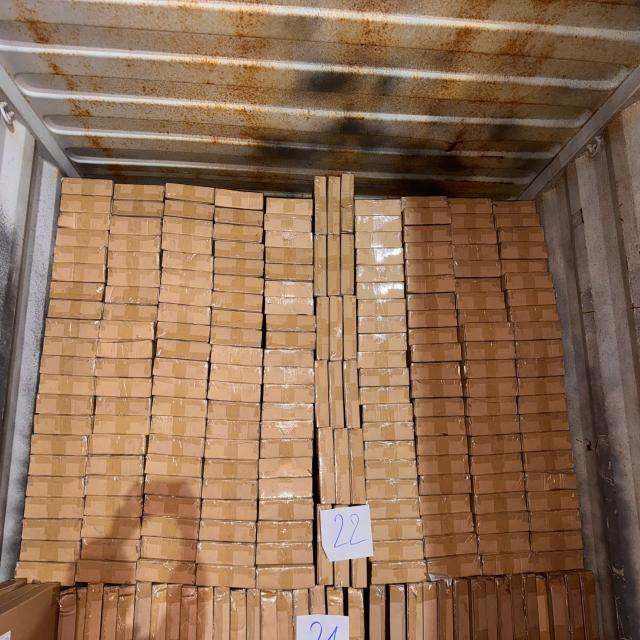Carton: (578, 571, 606, 640), (14, 560, 76, 586), (350, 504, 369, 588), (427, 552, 482, 581), (256, 564, 316, 590), (255, 541, 315, 567), (76, 559, 138, 584), (333, 503, 351, 589), (17, 540, 80, 564), (140, 537, 198, 563), (197, 540, 255, 566), (348, 427, 367, 506), (566, 571, 588, 639), (551, 574, 574, 639), (316, 503, 334, 586), (142, 515, 199, 541), (317, 428, 336, 506), (197, 564, 258, 588), (139, 560, 197, 585), (82, 516, 142, 540), (81, 536, 141, 560), (22, 496, 84, 519), (20, 519, 82, 542), (144, 475, 203, 499), (477, 528, 531, 554), (25, 476, 86, 499), (88, 434, 146, 458), (144, 495, 202, 519), (30, 435, 90, 458), (83, 495, 143, 518), (372, 560, 427, 585), (199, 520, 256, 544), (200, 498, 257, 522), (257, 520, 314, 544), (146, 455, 205, 478), (258, 500, 314, 524), (260, 477, 316, 501), (28, 455, 86, 478), (35, 396, 95, 418), (84, 476, 144, 498), (509, 574, 529, 640), (204, 458, 261, 481), (38, 354, 95, 377), (334, 429, 351, 506), (32, 415, 94, 436), (473, 472, 525, 497), (424, 512, 476, 537), (426, 533, 478, 558), (532, 548, 584, 573), (152, 377, 208, 400), (153, 357, 209, 380), (474, 513, 530, 536), (87, 455, 145, 477), (147, 436, 205, 458), (36, 374, 94, 396), (44, 300, 102, 322), (418, 474, 471, 498), (481, 552, 534, 576), (529, 529, 584, 552), (201, 480, 258, 502), (470, 434, 522, 458), (529, 488, 581, 512), (163, 198, 215, 222), (210, 345, 264, 368), (154, 340, 210, 362), (48, 280, 104, 302), (205, 440, 261, 462), (151, 398, 207, 420), (150, 416, 206, 438), (156, 323, 212, 345), (474, 492, 530, 514), (54, 210, 110, 232), (372, 518, 423, 542), (525, 449, 576, 473), (364, 458, 417, 481), (94, 377, 152, 398), (259, 456, 314, 478), (460, 320, 515, 342), (40, 338, 97, 359), (373, 540, 425, 563), (520, 429, 572, 452), (531, 510, 583, 533), (208, 419, 262, 441), (50, 264, 106, 285), (44, 318, 100, 339), (100, 321, 156, 342), (213, 292, 264, 315), (344, 360, 361, 429), (496, 575, 514, 640), (418, 455, 471, 477), (465, 377, 518, 399), (209, 382, 262, 404), (159, 285, 212, 307), (419, 494, 472, 516), (368, 500, 421, 522), (164, 232, 217, 254), (60, 195, 113, 217), (93, 398, 151, 418), (96, 358, 154, 378), (98, 340, 156, 360), (93, 416, 151, 436), (209, 365, 264, 386), (53, 229, 108, 250), (418, 436, 470, 458), (212, 328, 264, 350), (471, 454, 523, 476), (112, 215, 164, 237), (454, 580, 473, 640), (414, 399, 468, 420), (209, 401, 263, 422), (264, 382, 318, 403), (166, 215, 217, 237), (524, 574, 541, 640), (106, 269, 162, 289), (134, 583, 154, 639), (470, 578, 488, 640), (463, 341, 516, 362), (466, 396, 519, 417), (263, 348, 316, 369), (411, 360, 464, 381), (261, 403, 314, 424), (164, 254, 217, 275), (62, 179, 115, 200), (366, 480, 419, 501), (330, 360, 346, 429), (261, 440, 316, 460), (364, 441, 416, 462), (264, 365, 316, 386), (416, 417, 468, 438), (264, 331, 316, 352), (468, 415, 520, 436), (526, 472, 578, 493), (535, 575, 552, 639), (262, 420, 316, 440), (368, 585, 388, 639), (158, 306, 212, 326), (58, 586, 78, 640), (215, 191, 264, 213), (518, 412, 569, 433), (214, 240, 265, 261), (214, 274, 265, 295), (388, 583, 407, 639), (118, 583, 137, 639), (408, 344, 461, 364), (411, 378, 464, 398), (110, 232, 163, 252), (111, 199, 164, 219), (516, 339, 564, 361), (168, 184, 216, 206), (356, 314, 406, 335), (315, 360, 330, 430), (214, 224, 264, 245), (214, 207, 264, 228), (52, 246, 107, 265), (105, 286, 160, 305), (86, 584, 105, 639), (464, 359, 516, 379), (363, 422, 415, 442), (212, 310, 264, 330), (358, 367, 410, 387), (407, 326, 459, 346), (361, 405, 413, 425), (160, 270, 212, 290), (346, 587, 366, 639), (517, 393, 566, 414), (108, 253, 162, 272), (343, 297, 359, 361), (339, 232, 355, 296), (264, 264, 315, 284), (264, 298, 315, 318), (264, 280, 315, 300), (213, 259, 264, 279), (517, 376, 565, 397), (102, 306, 158, 324), (408, 582, 426, 638), (152, 583, 170, 639), (312, 233, 328, 296), (359, 386, 412, 405), (505, 288, 558, 307), (439, 581, 456, 640), (355, 281, 405, 301), (356, 298, 406, 318), (102, 584, 120, 639), (112, 182, 164, 201), (359, 334, 408, 354), (408, 310, 457, 330), (407, 294, 456, 314), (265, 214, 314, 234), (513, 320, 562, 340), (453, 258, 502, 278), (516, 357, 564, 377), (265, 198, 313, 218), (406, 276, 454, 296), (406, 242, 454, 262), (326, 175, 342, 235), (503, 273, 556, 291), (507, 306, 560, 324), (356, 247, 406, 266), (265, 247, 315, 266), (264, 232, 314, 251), (456, 291, 506, 310), (340, 171, 355, 234), (353, 214, 402, 233), (326, 235, 341, 297), (423, 581, 439, 639), (213, 588, 231, 639), (358, 351, 409, 369), (180, 585, 197, 639), (231, 590, 249, 640), (331, 296, 345, 360), (166, 584, 182, 640), (198, 587, 215, 639), (355, 266, 404, 284), (501, 242, 550, 260), (486, 577, 500, 640), (500, 227, 549, 245), (451, 243, 500, 261), (265, 317, 316, 334), (262, 592, 280, 640), (354, 232, 402, 250), (404, 208, 452, 226), (314, 174, 328, 235), (355, 200, 402, 218), (451, 227, 498, 245), (278, 592, 295, 640), (246, 590, 262, 640), (502, 260, 552, 276), (404, 260, 454, 276), (403, 226, 452, 242), (74, 584, 88, 640), (317, 296, 329, 360), (454, 277, 502, 293), (450, 199, 494, 216), (492, 199, 538, 214), (451, 214, 495, 229), (401, 195, 448, 209), (494, 213, 541, 227), (458, 309, 508, 322), (293, 589, 310, 620), (328, 587, 346, 616), (310, 587, 327, 615)
